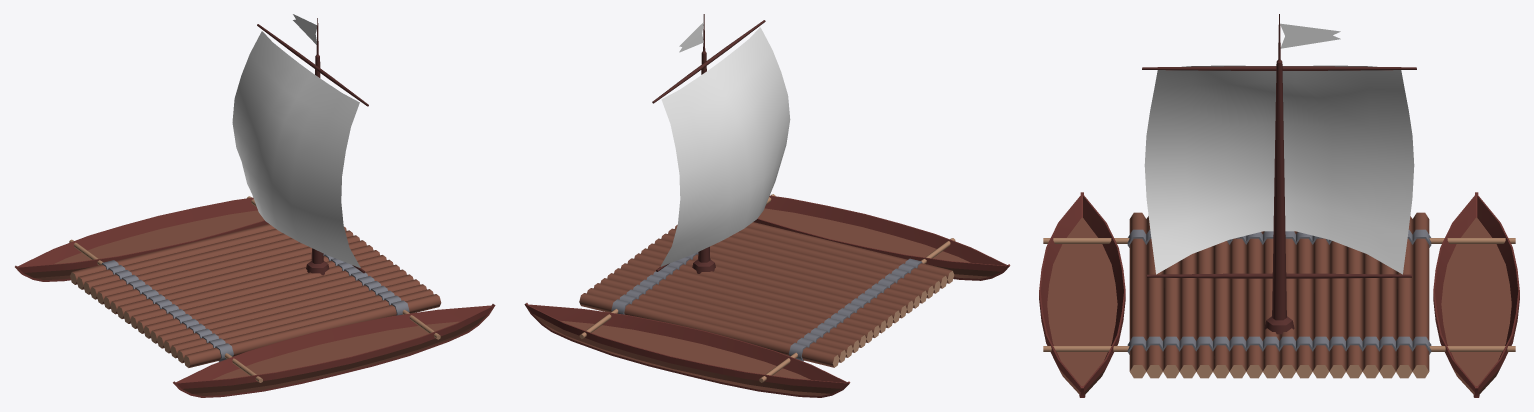
The model's file is raft2.fbx.
3 renders of one model, left to right at view 1: azimuth 30°, elevation 25°; view 2: azimuth 150°, elevation 25°; view 3: azimuth 270°, elevation 25°, orthographic. The views are drawn at different scales.
Parts seen in each view (by area): view 1: raft2; view 2: raft2; view 3: raft2.
Boxes of the visible parts, bbox=[...] form: raft2: bbox=[15, 14, 495, 397]; raft2: bbox=[524, 14, 1010, 397]; raft2: bbox=[1039, 14, 1519, 397].
Size of the model in its own units: 8.45 by 7.07 by 8.79.
2 materials, 1 textured.
